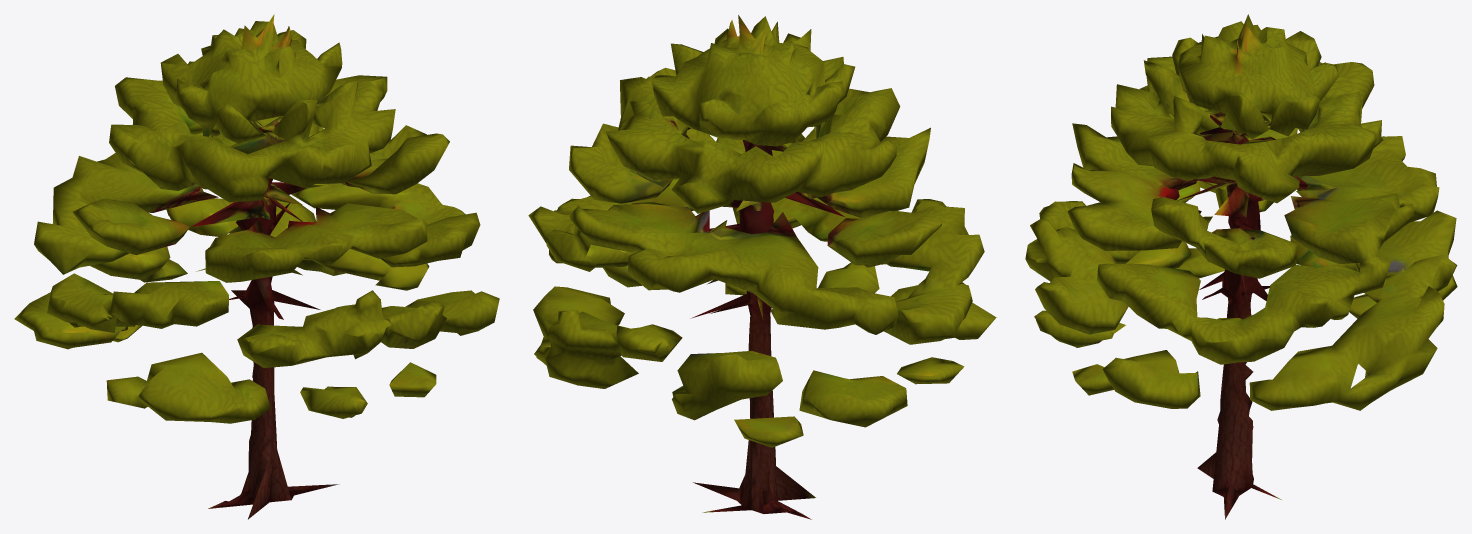
The model's file is pinoSolitario.fbx.
3 renders of one model, left to right at view 1: azimuth 30°, elevation 25°; view 2: azimuth 150°, elevation 25°; view 3: azimuth 270°, elevation 25°, orthographic. The views are drawn at different scales.
Visible parts, largest first — view 1: tripo_node_5bfb0a4f; view 2: tripo_node_5bfb0a4f; view 3: tripo_node_5bfb0a4f.
Boxes of the visible parts, box(x1,y1,x2,y2) form: tripo_node_5bfb0a4f: box(14, 14, 499, 519); tripo_node_5bfb0a4f: box(528, 15, 996, 519); tripo_node_5bfb0a4f: box(1025, 14, 1457, 519).
Size of the model in its own units: 0.8558 by 0.9738 by 0.8101.
Materials: 1 (1 with a texture image).
